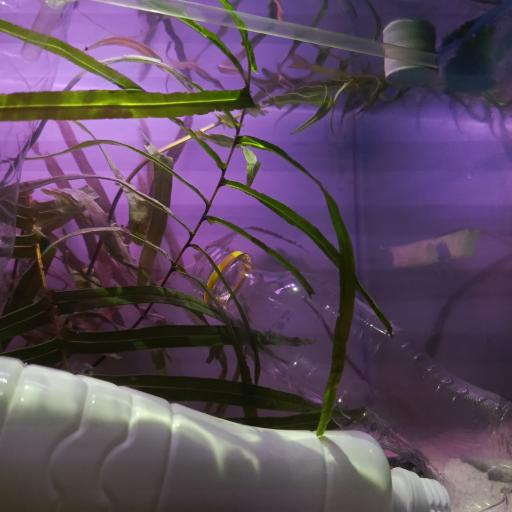bottle_cap: (376, 44, 440, 83)
plastic_bottle: (189, 244, 512, 512), (2, 359, 446, 511)
plastic_straw: (78, 0, 445, 68)
